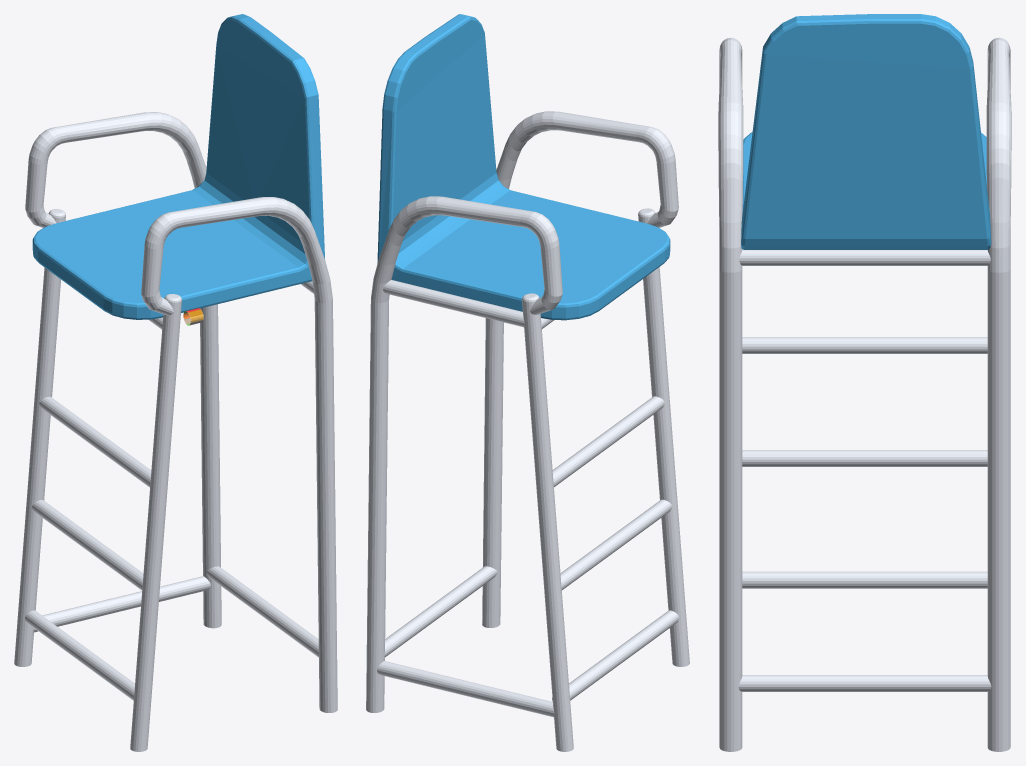
The model's file is Jiuchair-cut.FBX.
3 views of the same model, side by side, from view 1: azimuth 30°, elevation 25°; view 2: azimuth 150°, elevation 25°; view 3: azimuth 270°, elevation 25° (orthographic). The views are drawn at different scales.
Parts seen in each view (by area): view 1: pCylinder26_Part_3, pCylinder26_Part_1, pCylinder26_Part_2; view 2: pCylinder26_Part_1, pCylinder26_Part_3, pCylinder26_Part_2; view 3: pCylinder26_Part_1, pCylinder26_Part_2, pCylinder26_Part_3.
Part boxes in pixels (x1,y1,x2,y2): pCylinder26_Part_3: (25,153,335,575); pCylinder26_Part_1: (28,14,324,360); pCylinder26_Part_2: (14,355,337,751); pCylinder26_Part_1: (369,14,556,444); pCylinder26_Part_3: (484,111,678,486); pCylinder26_Part_2: (366,409,689,751); pCylinder26_Part_1: (742,14,1011,442); pCylinder26_Part_2: (719,337,1010,751); pCylinder26_Part_3: (718,37,1010,505).
Bounding box in the file's own units: 742 × 2164 × 787.
